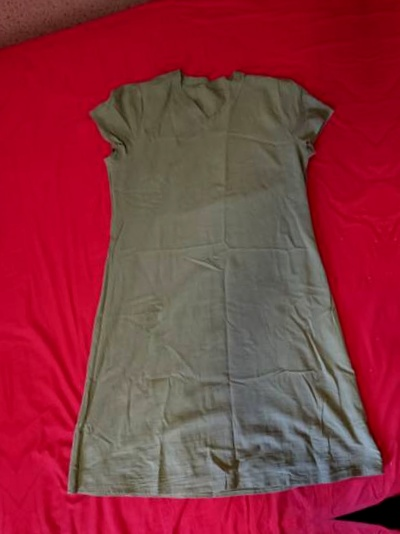Dress: (41, 27, 400, 526), (375, 0, 400, 494), (90, 529, 400, 534)
